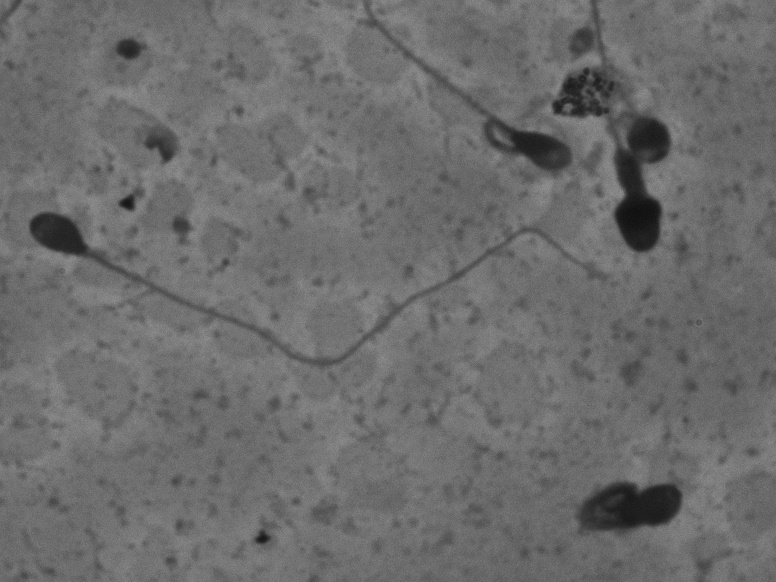Abnormal: (15, 210, 609, 420), (339, 12, 586, 183), (601, 10, 707, 260), (559, 449, 708, 553)
